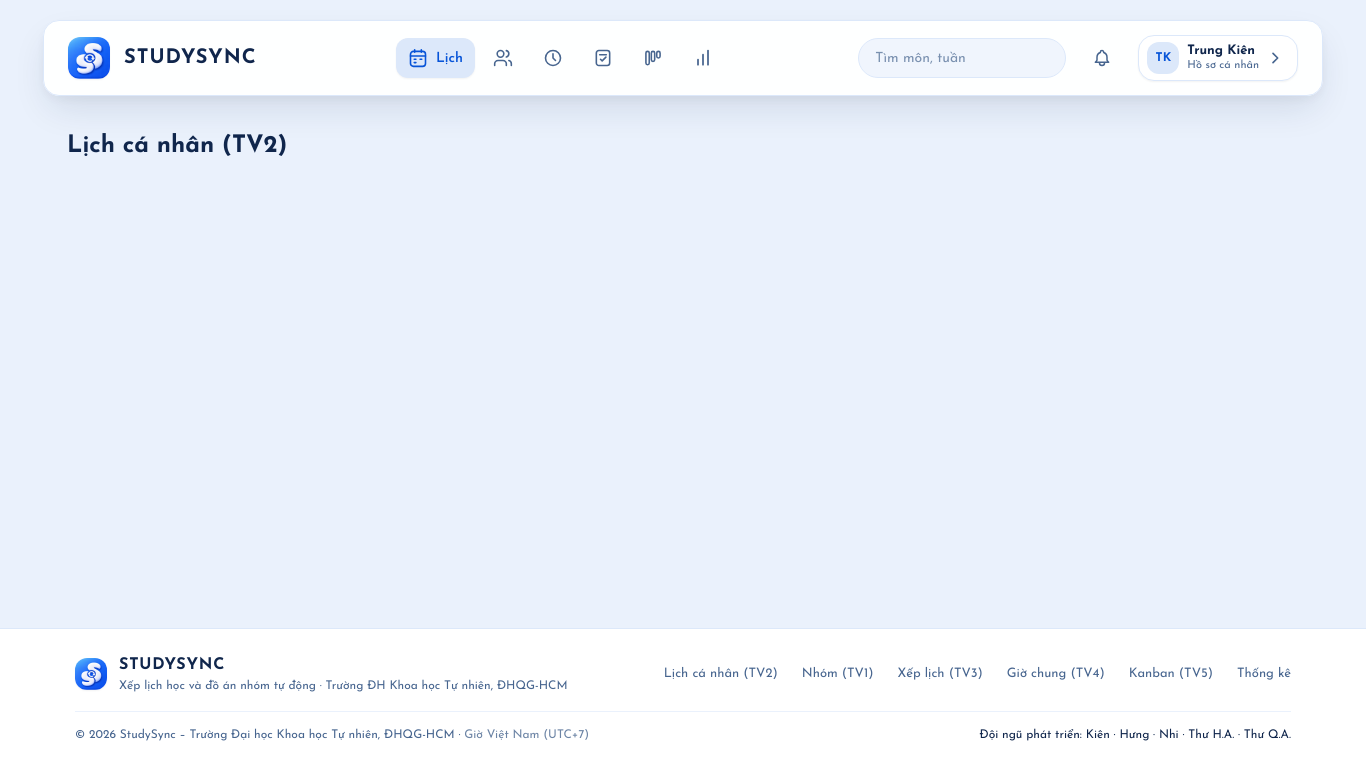
Test: App navigation and layout › chuyển đổi trang khi người dùng bấm vào các mục trên thanh điều hướng
Expected: the heading "Lịch cá nhân (TV2)" is shown, [67,134,287,158]
Click the link named "Nhóm".
click(503, 58)  # box [493,48,513,68]
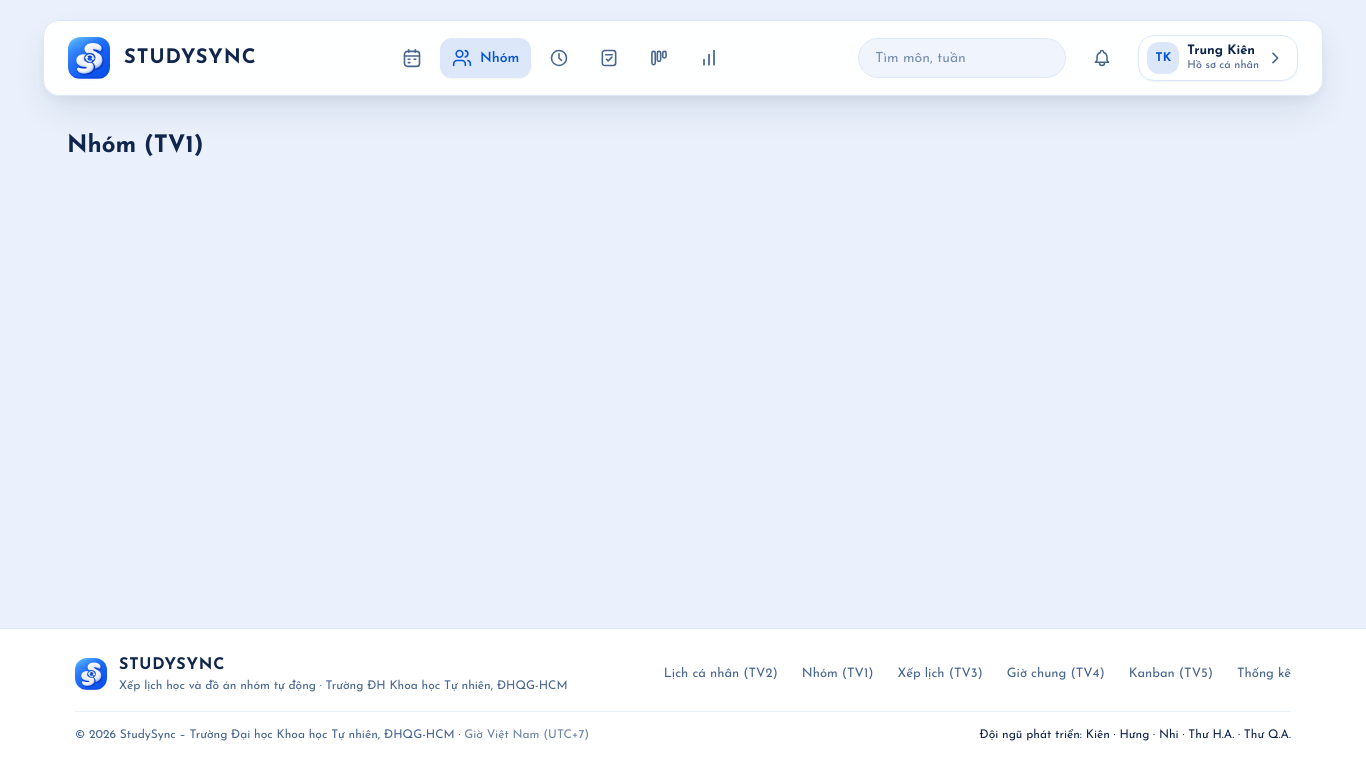
Expected: the heading "Nhóm (TV1)" is shown, [67,134,204,158]
